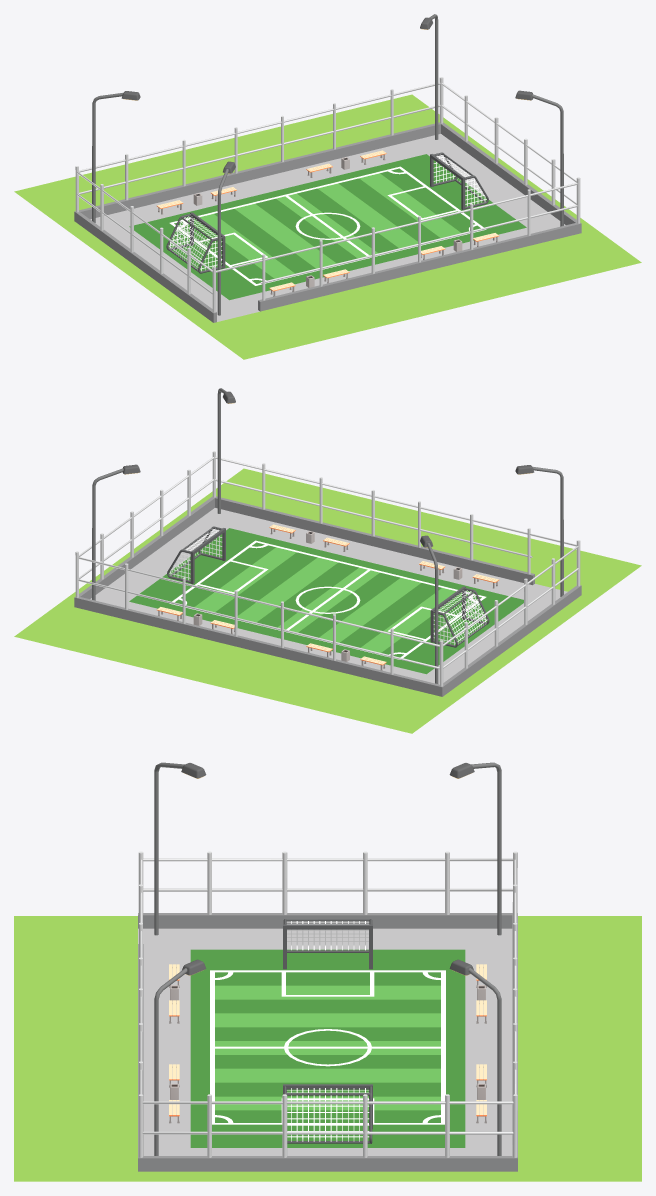
File: Entertainment_Football_01.glb
The picture shows the model from 3 angles, top to bottom: view 1: azimuth 30°, elevation 25°; view 2: azimuth 150°, elevation 25°; view 3: azimuth 270°, elevation 25°; orthographic projection. The views are drawn at different scales.
Parts seen in each view (by area): view 1: Entertainment_Football_01; view 2: Entertainment_Football_01; view 3: Entertainment_Football_01.
Boxes of the visible parts, <box> form: Entertainment_Football_01: <box>14,14,641,359</box>; Entertainment_Football_01: <box>14,388,641,733</box>; Entertainment_Football_01: <box>14,762,641,1181</box>.
Size of the model in its own units: 30 by 9.72 by 30.
2 materials, 2 textured.
